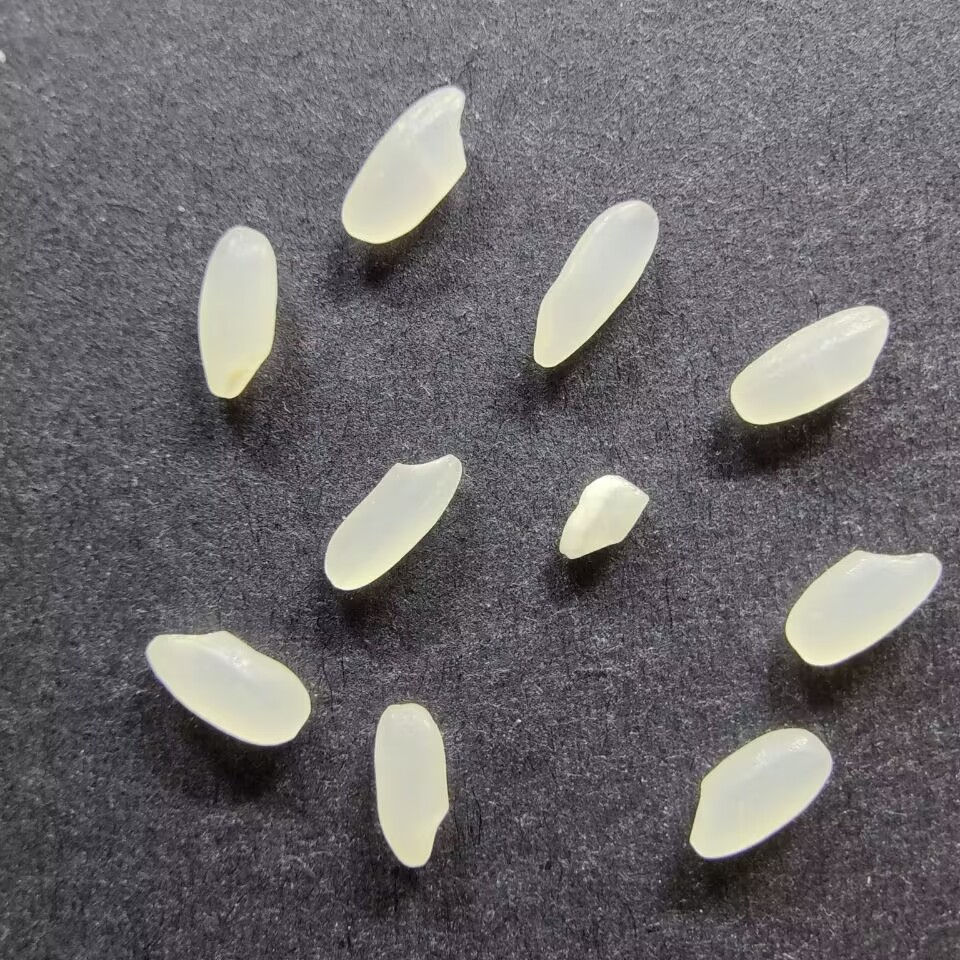broken: (556, 472, 650, 561)
rice: (533, 199, 662, 368), (339, 81, 470, 244), (684, 727, 836, 859), (321, 450, 463, 591), (729, 302, 889, 427), (144, 629, 312, 747), (785, 548, 945, 669), (196, 225, 280, 398), (371, 701, 450, 868)
